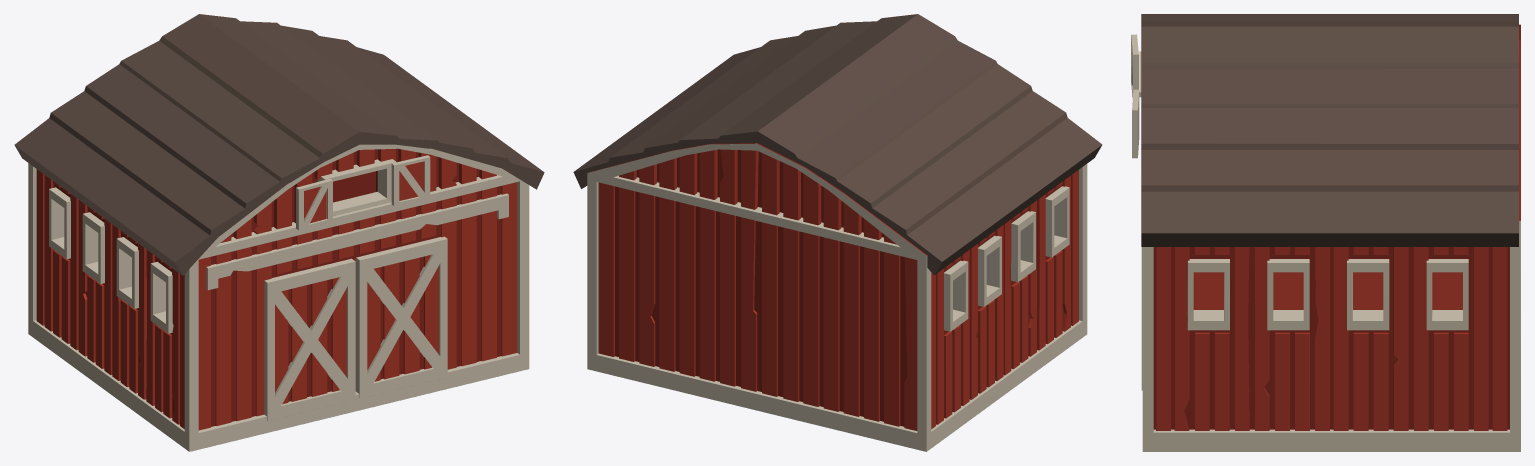
The model's file is farm_barn_01.glb.
The picture shows the model from 3 angles, left to right: view 1: azimuth 30°, elevation 25°; view 2: azimuth 150°, elevation 25°; view 3: azimuth 270°, elevation 25°; orthographic projection. The views are drawn at different scales.
Visible parts, largest first — view 1: farm_barn_01; view 2: farm_barn_01; view 3: farm_barn_01.
Boxes of the visible parts, x1=… form: farm_barn_01: x1=14, y1=14, x2=544, y2=451; farm_barn_01: x1=573, y1=14, x2=1102, y2=451; farm_barn_01: x1=1131, y1=14, x2=1520, y2=451.
Bounding box in the file's own units: 18 × 13 × 14.
